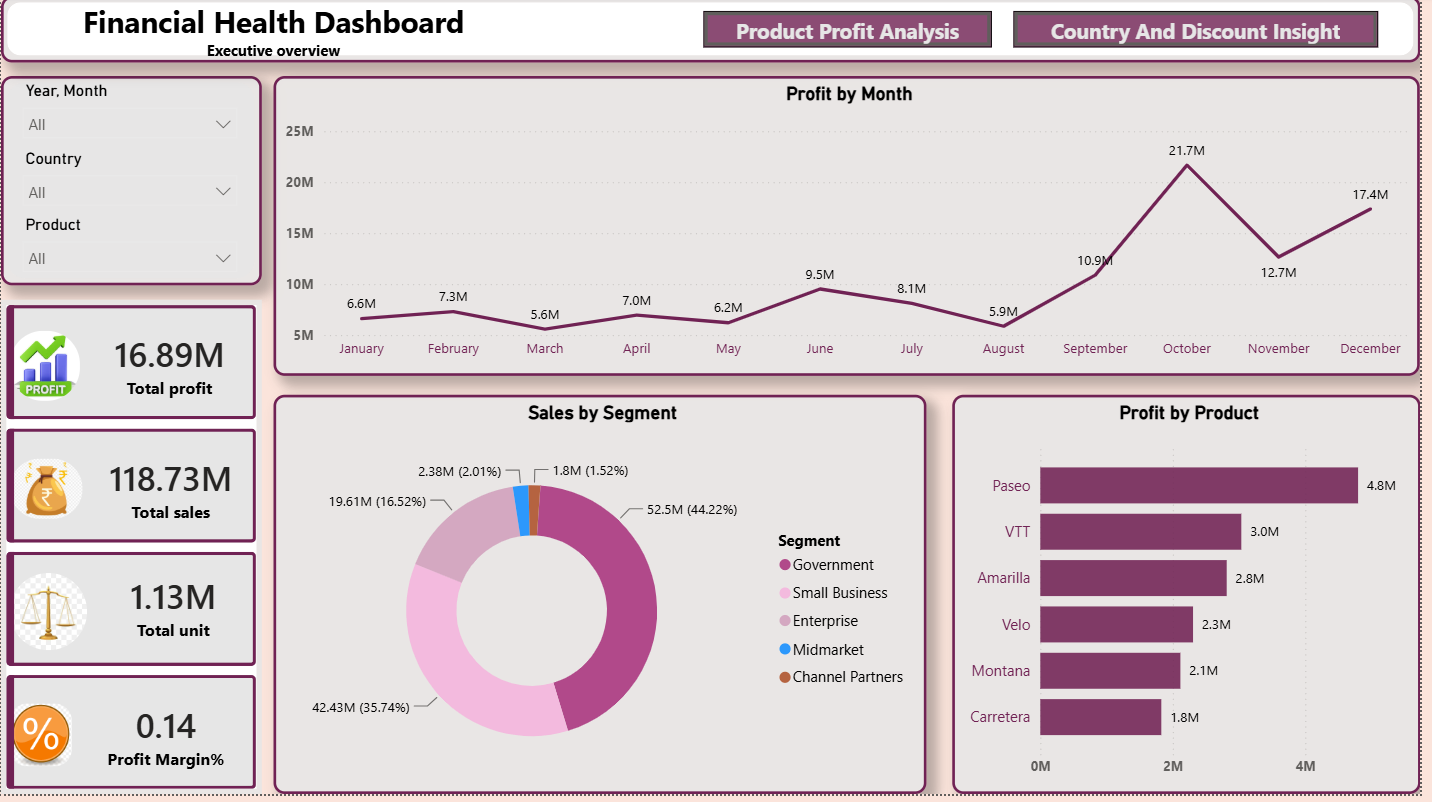

Layout of this report page (visuals, bound fields, positions):
{"tool":"powerbi","page":{"name":"Executive Summary","canvas":[1280,720],"ordinal":0},"visuals":[{"type":"shape","box":[0,72.5,235,188.8],"z":0},{"type":"shape","box":[0,0,1280,60],"z":1000},{"type":"textbox","box":[0,0,491.2,72.5],"z":2000},{"type":"lineChart","title":"Profit by Month","fields":{"Category":["financials.Date.Variation.Date Hierarchy.Month"],"Y":["Sum(financials. Sales)"]},"box":[246.2,72.5,1033.8,270],"z":3000},{"type":"cardVisual","fields":{"Data":["financials.Total profit","financials.Total sales","financials.Total unit","financials.Profit Margin%"]},"box":[0,273.8,235,446.2],"z":4000},{"type":"slicer","fields":{"Values":["financials.Date.Variation.Date Hierarchy.Year","financials.Date.Variation.Date Hierarchy.Month"]},"box":[8.8,72.5,213.8,60],"z":5000},{"type":"slicer","fields":{"Values":["financials.Country"]},"box":[8.8,132.5,213.8,60],"z":6000},{"type":"slicer","fields":{"Values":["financials.Product"]},"box":[8.8,192.5,213.8,60],"z":7000},{"type":"donutChart","title":"Sales by Segment","fields":{"Category":["financials.Segment"],"Y":["Sum(financials. Sales)"]},"box":[246.2,360,588.8,360],"z":8000},{"type":"barChart","title":"Profit by Product","fields":{"Category":["financials.Product"],"Y":["Sum(financials.Profit)"]},"box":[857.5,360,422.5,360],"z":9000},{"type":"actionButton","title":"Product Profit Analysis","box":[633.8,13.8,260,32.5],"z":10000},{"type":"actionButton","title":"Product Profit Analysis","box":[912.5,13.8,328.8,32.5],"z":11000}]}

Visuals, with their boxes in screenshot pixels (x1, y1, x2, y2), scaled from the page's 1280x720 canvas onto the 1432x802 screenshot:
shape: box(0, 81, 263, 291)
shape: box(0, 0, 1431, 67)
textbox: box(0, 0, 550, 81)
"Profit by Month" lineChart: box(275, 81, 1431, 382)
cardVisual - financials.Total profit x financials.Total sales: box(0, 305, 263, 801)
slicer - financials.Date.Variation.Date Hierarchy.Year x financials.Date.Variation.Date Hierarchy.Month: box(10, 81, 249, 148)
slicer - financials.Country: box(10, 148, 249, 214)
slicer - financials.Product: box(10, 214, 249, 281)
"Sales by Segment" donutChart: box(275, 401, 934, 801)
"Profit by Product" barChart: box(959, 401, 1431, 801)
"Product Profit Analysis" actionButton: box(709, 15, 1000, 52)
"Product Profit Analysis" actionButton: box(1021, 15, 1389, 52)
